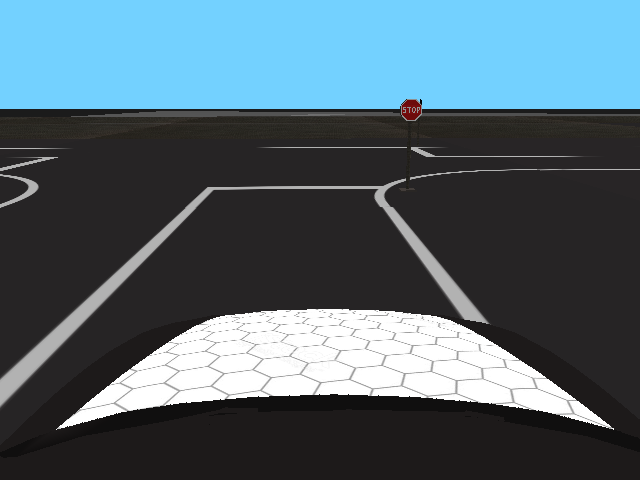stop: (400, 99, 423, 121)
